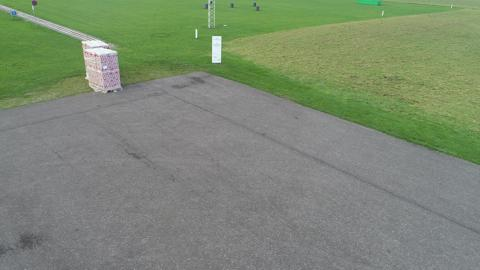RockwoolPallet: (84, 39, 108, 51)
